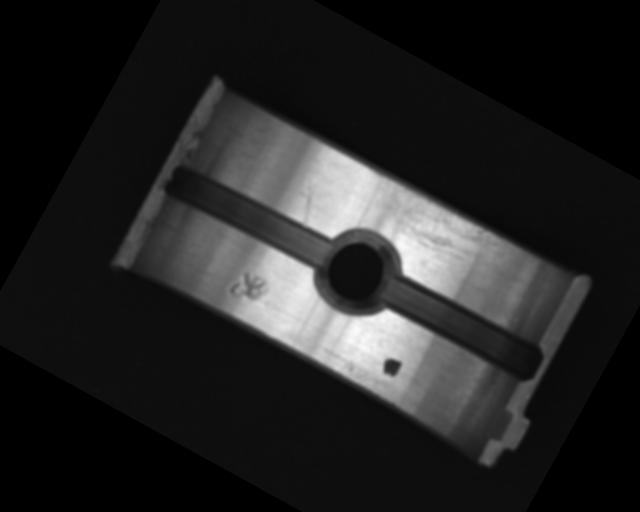blot: (378, 354, 404, 380)
bruise: (227, 266, 272, 309)
gap: (158, 154, 340, 283), (376, 267, 548, 387)
hole: (302, 216, 412, 328)
nick: (286, 170, 333, 228)
scratch: (348, 164, 518, 291)
